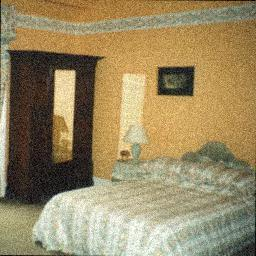Armario: (19, 50, 95, 185)
